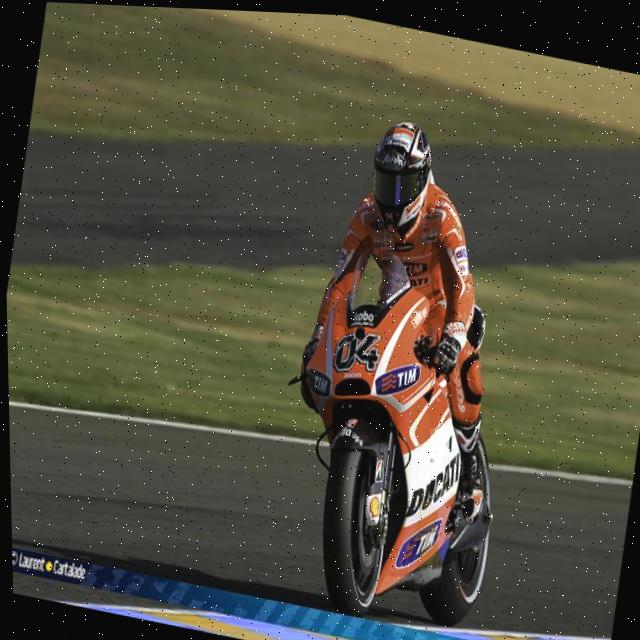motorcycle: (244, 218, 536, 640)
